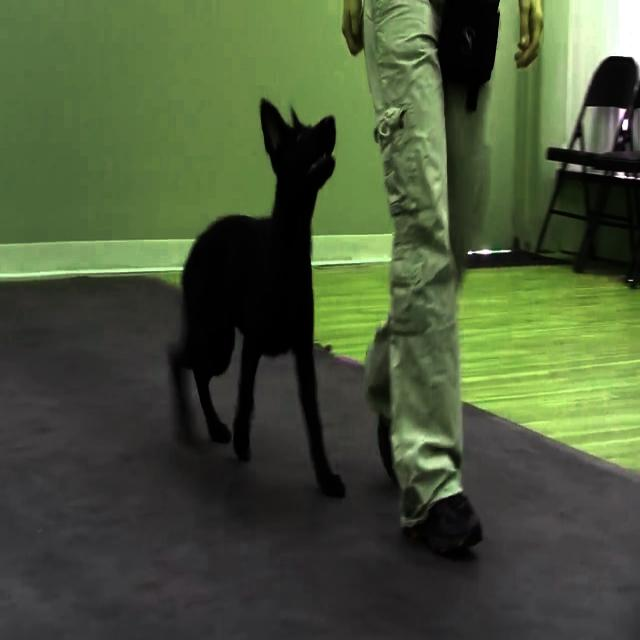Unleashed_Dog: (166, 2, 464, 498)
